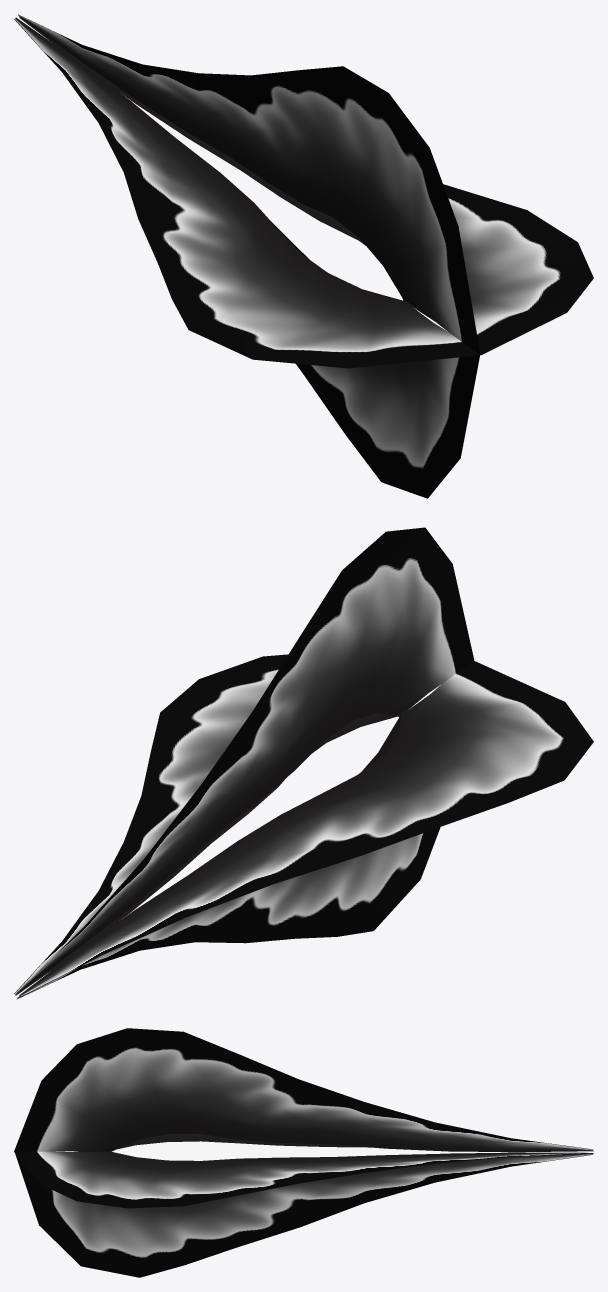
The model's file is zidanliuguang.FBX.
3 views of the same model, one above another, from view 1: azimuth 30°, elevation 25°; view 2: azimuth 150°, elevation 25°; view 3: azimuth 270°, elevation 25° (orthographic). The views are drawn at different scales.
Parts seen in each view (by area): view 1: zidan_liuguang001; view 2: zidan_liuguang001; view 3: zidan_liuguang001.
Boxes of the visible parts, box(x1,y1,x2,y2) form: zidan_liuguang001: box(14, 14, 593, 498); zidan_liuguang001: box(14, 527, 593, 999); zidan_liuguang001: box(14, 1028, 593, 1277).
Bounding box in the file's own units: 108 × 108 × 228.
